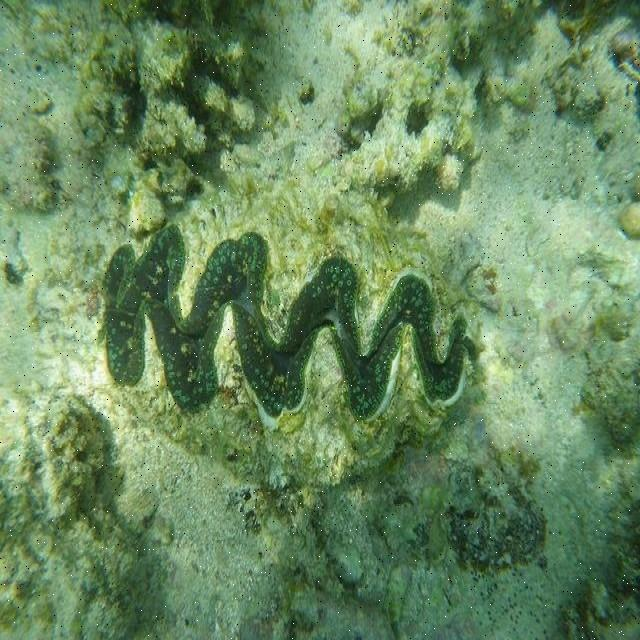reefs: (99, 224, 478, 420)
